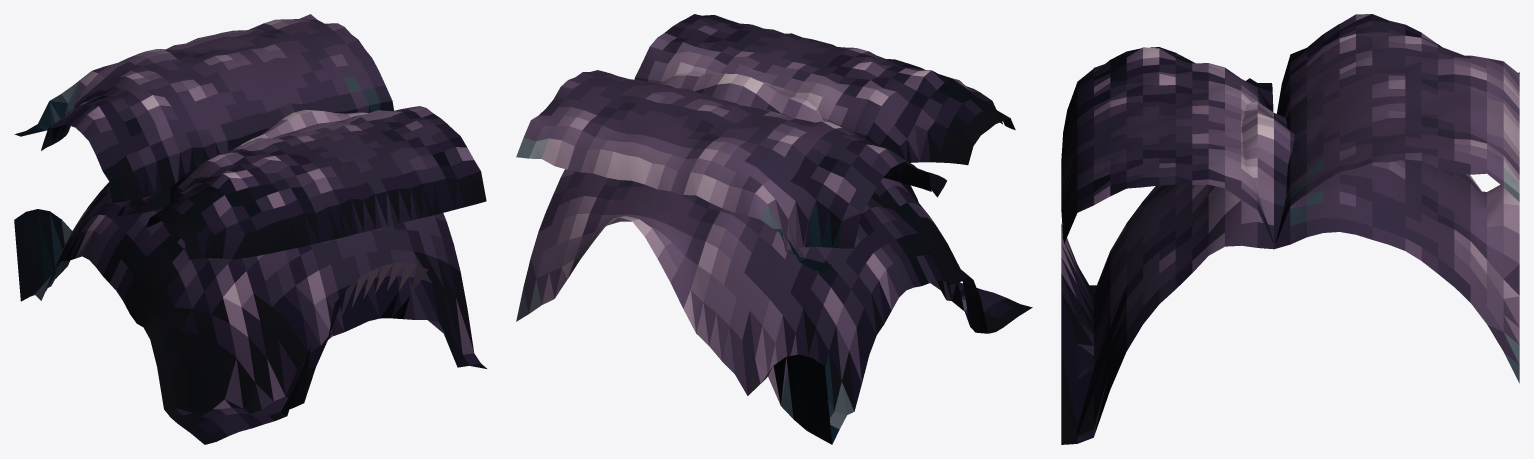
The model's file is gyges_maw_43.glb.
3 views of the same model, side by side, from view 1: azimuth 30°, elevation 25°; view 2: azimuth 150°, elevation 25°; view 3: azimuth 270°, elevation 25° (orthographic). The views are drawn at different scales.
Parts seen in each view (by area): view 1: gyges_maw_43_body, gyges_maw_43_spine1, gyges_maw_43_spine2; view 2: gyges_maw_43_body, gyges_maw_43_spine1, gyges_maw_43_spine2; view 3: gyges_maw_43_body, gyges_maw_43_spine1, gyges_maw_43_spine2.
Part boxes in pixels (bbox=[...]): gyges_maw_43_body: bbox=[14, 109, 486, 444]; gyges_maw_43_spine1: bbox=[14, 14, 393, 203]; gyges_maw_43_spine2: bbox=[117, 106, 486, 259]; gyges_maw_43_body: bbox=[516, 71, 1032, 444]; gyges_maw_43_spine1: bbox=[516, 70, 931, 272]; gyges_maw_43_spine2: bbox=[634, 14, 1015, 197]; gyges_maw_43_body: bbox=[1061, 101, 1519, 444]; gyges_maw_43_spine1: bbox=[1276, 14, 1519, 243]; gyges_maw_43_spine2: bbox=[1061, 47, 1273, 243].
Bounding box in the file's own units: 23.98 × 20 × 27.98.
